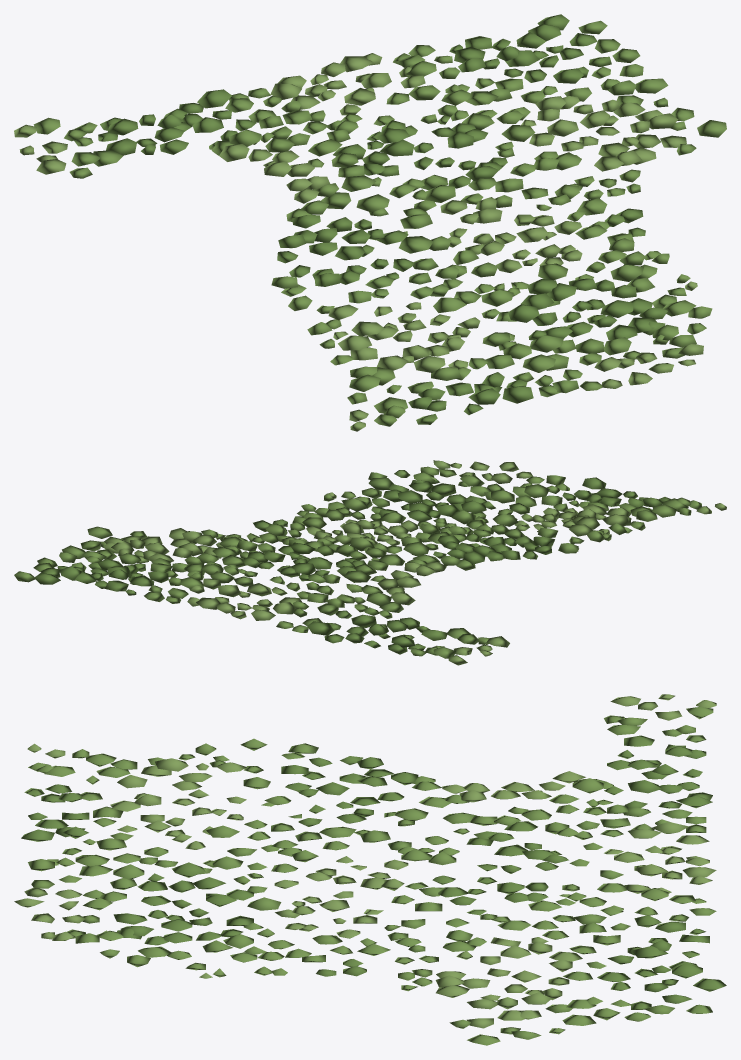
File: canopy-1--6-4.glb
The picture shows the model from 3 angles, top to bottom: view 1: azimuth 30°, elevation 25°; view 2: azimuth 150°, elevation 25°; view 3: azimuth 270°, elevation 25°; orthographic projection. The views are drawn at different scales.
Size of the model in its own units: 518 by 65 by 520.
1 material, 1 textured.
